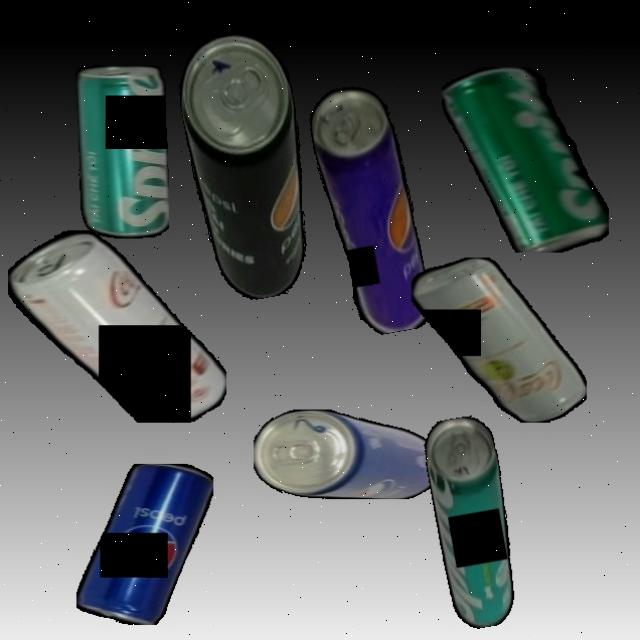debris: (171, 27, 326, 306), (7, 230, 226, 422), (305, 80, 434, 340), (442, 66, 609, 252), (410, 258, 586, 422), (420, 413, 526, 632), (75, 464, 214, 625), (254, 409, 438, 499), (75, 65, 169, 238)
